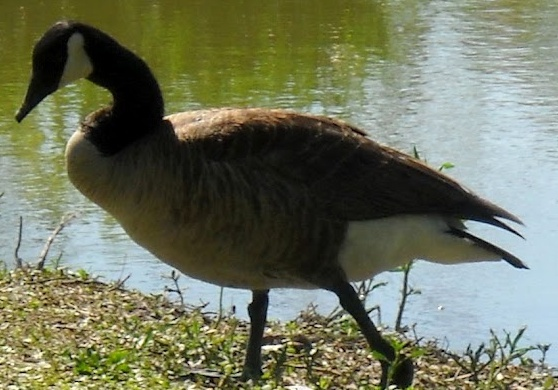goose: (7, 15, 543, 374)
